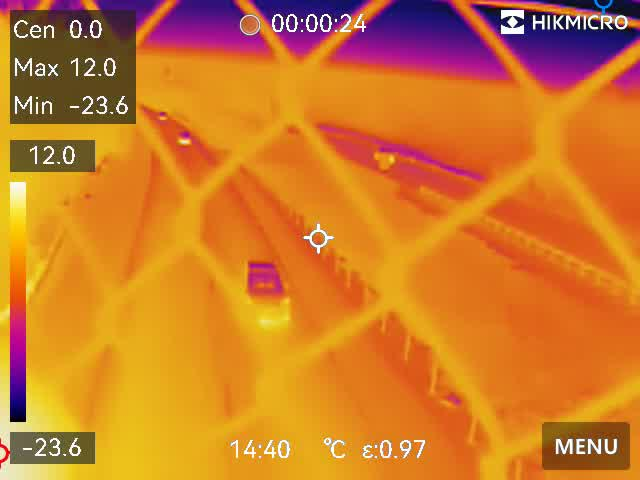vehicle: (241, 247, 286, 330), (373, 140, 408, 176), (173, 129, 193, 146), (153, 110, 174, 122)
